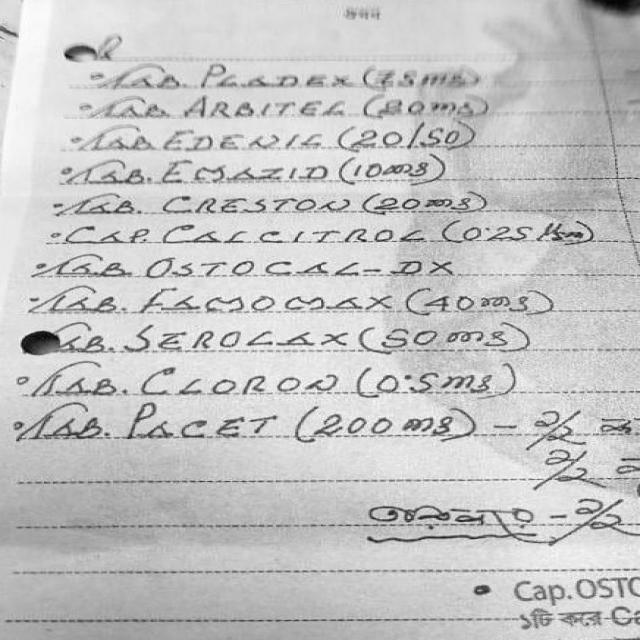medicine: (140, 248, 463, 282), (136, 282, 401, 318), (126, 319, 364, 354), (132, 361, 348, 398), (120, 400, 292, 446), (152, 220, 442, 247), (149, 186, 363, 220), (175, 88, 357, 122), (192, 58, 358, 92), (154, 155, 342, 185), (158, 120, 334, 152)
